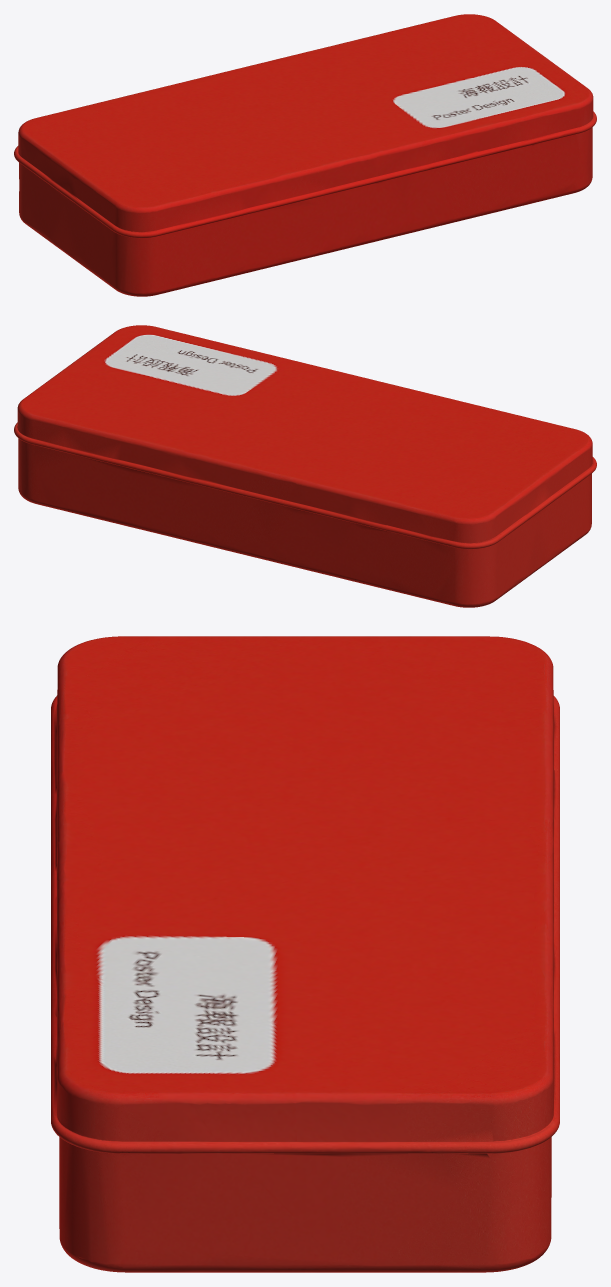
The model's file is red-poster-20261024.glb.
3 views of the same model, one above another, from view 1: azimuth 30°, elevation 25°; view 2: azimuth 150°, elevation 25°; view 3: azimuth 270°, elevation 25° (orthographic). The views are drawn at different scales.
Bounding box in the file's own units: 1.9 × 0.342 × 0.872.
1 material, 1 textured.
